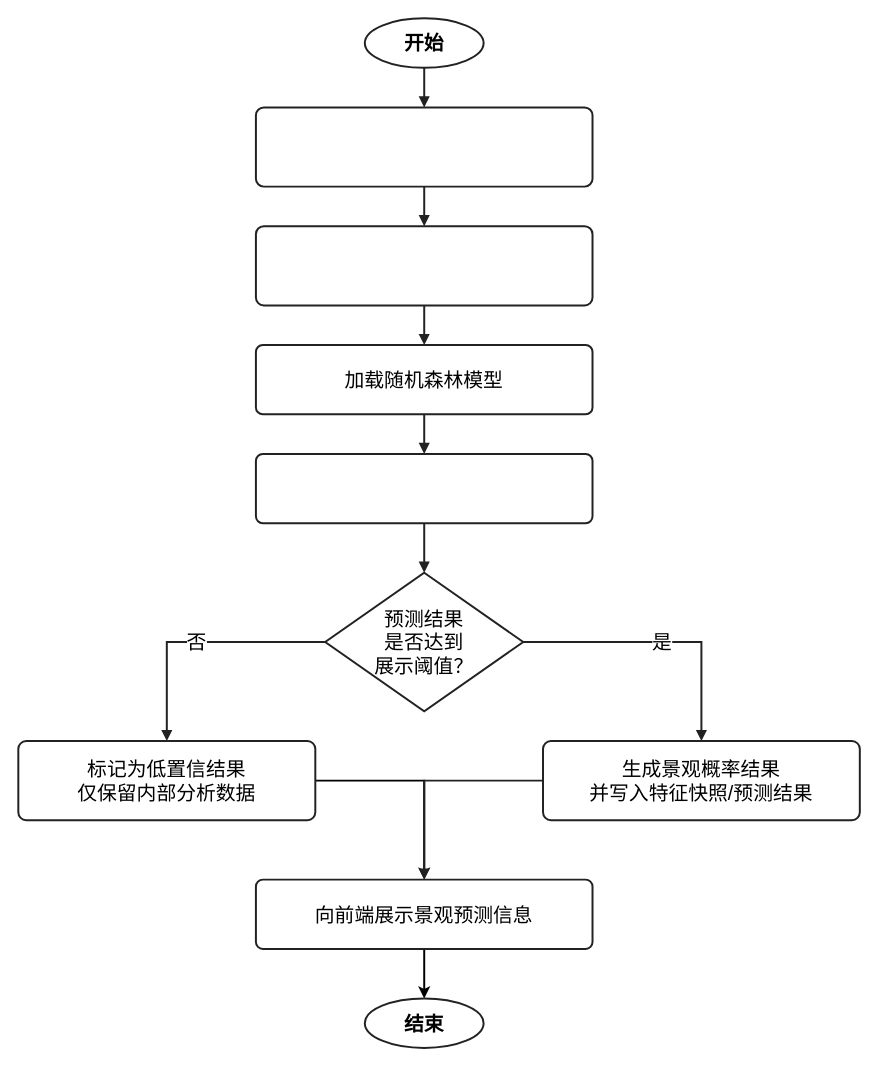
Image size: 877x1065. Some labels were removed from this diagram. Each missing label, with the centre of its shape:
按路线与预测日期执行景观预测: (x=423, y=488)
进行数据清洗与特征工程: (x=423, y=265)
采集输入数据: (x=423, y=146)
